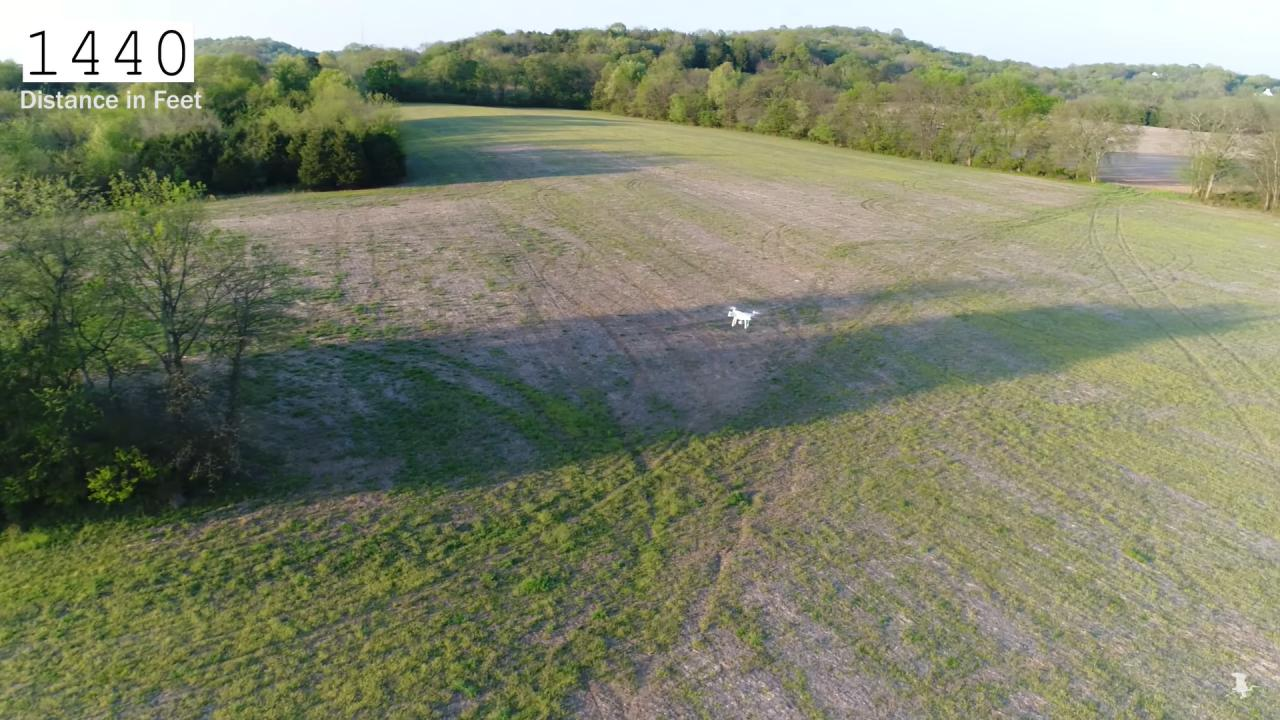Drone: (720, 297, 769, 338)
